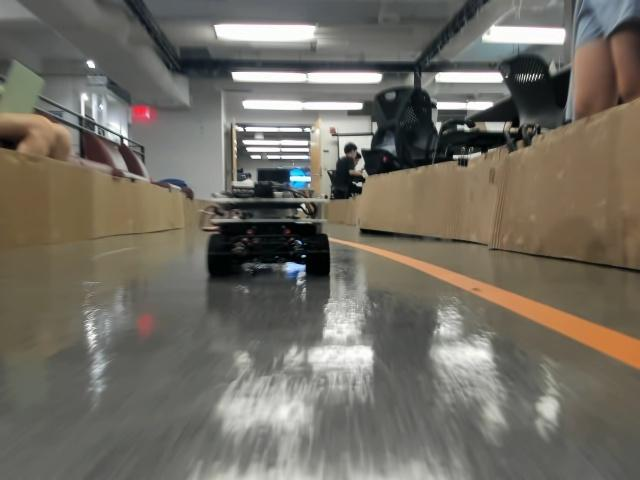Car: (203, 167, 330, 277)
